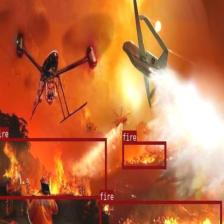fire: (0, 137, 106, 198), (99, 200, 221, 224), (122, 141, 166, 169)
